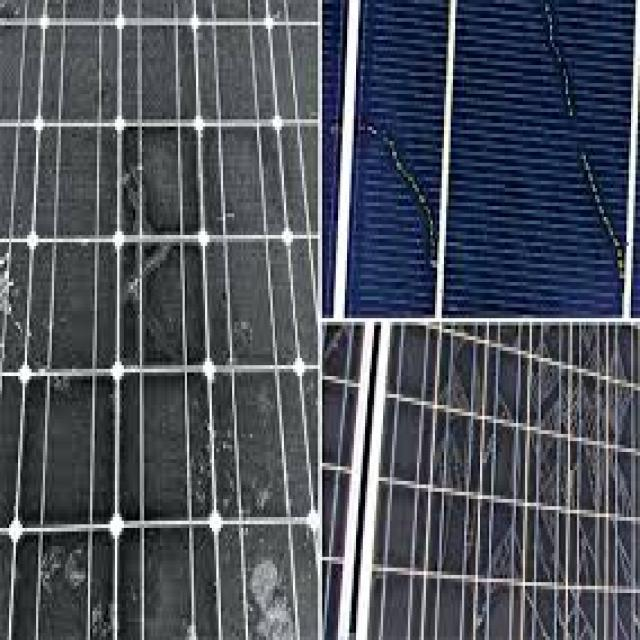faulty: (1, 0, 317, 640), (328, 0, 635, 314), (329, 319, 629, 640)
